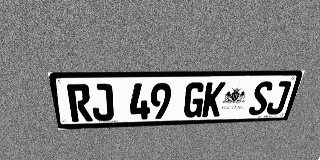4: (130, 83, 151, 120)
9: (150, 83, 172, 119)
G: (183, 82, 206, 118)
J: (265, 81, 292, 115), (90, 84, 114, 121)
K: (201, 82, 226, 117)
R: (66, 84, 93, 122)
S: (248, 81, 274, 115)
